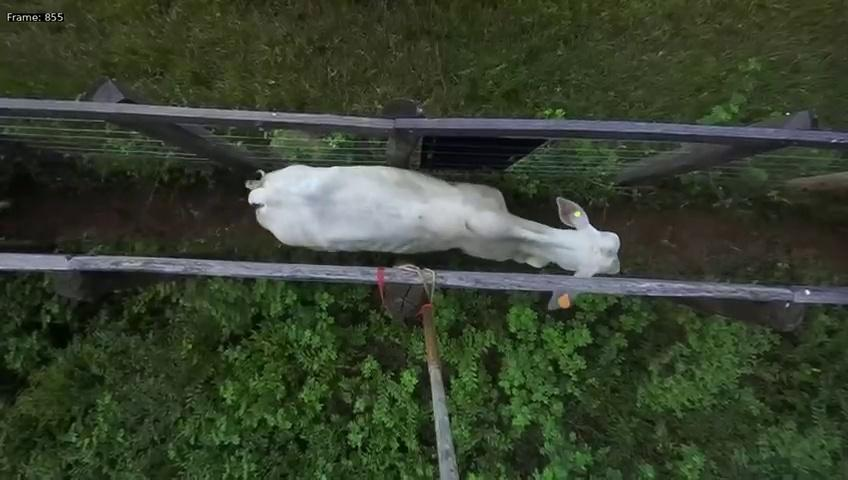cattle: (241, 136, 625, 273)
